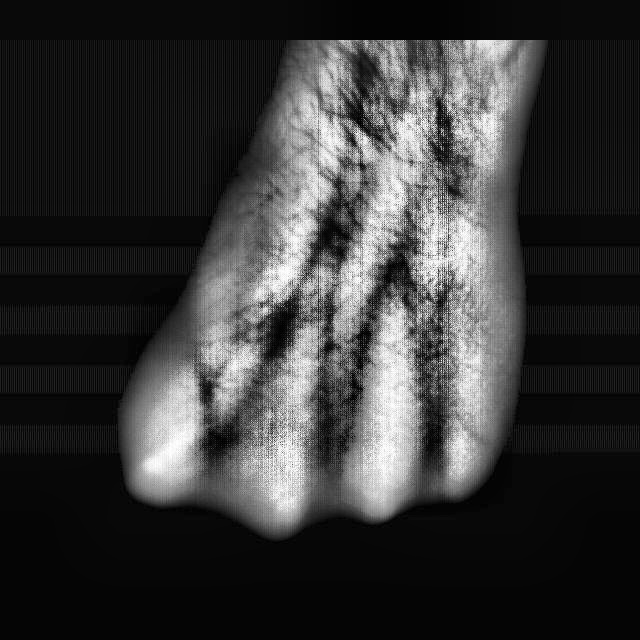Vein: (264, 175, 355, 344)
